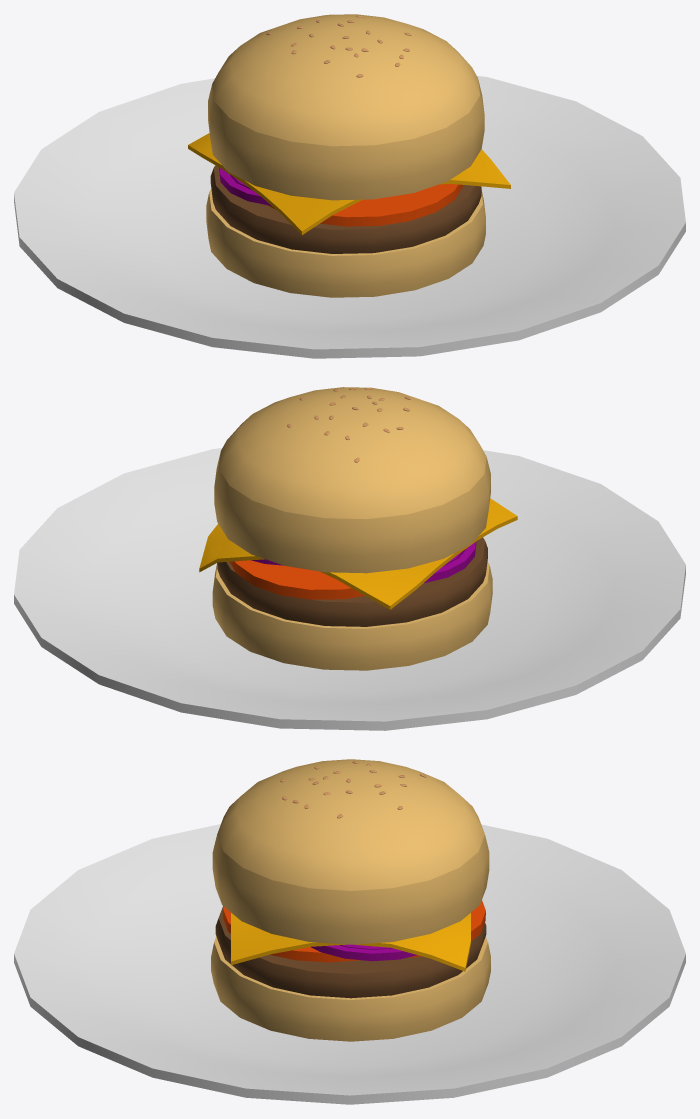
File: burger.fbx
3 views of the same model, one above another, from view 1: azimuth 30°, elevation 25°; view 2: azimuth 150°, elevation 25°; view 3: azimuth 270°, elevation 25° (orthographic).
Parts seen in each view (by area): view 1: pCylinder31, polySurface28; view 2: pCylinder31, polySurface28; view 3: pCylinder31, polySurface28.
Boxes of the visible parts, x1=… form: pCylinder31: x1=14, y1=76, x2=685, y2=358; polySurface28: x1=188, y1=14, x2=510, y2=297; pCylinder31: x1=14, y1=448, x2=685, y2=730; polySurface28: x1=199, y1=387, x2=517, y2=670; pCylinder31: x1=14, y1=824, x2=685, y2=1104; polySurface28: x1=211, y1=759, x2=490, y2=1041.
Bounding box in the file's own units: 1.8 × 0.6275 × 1.8.
